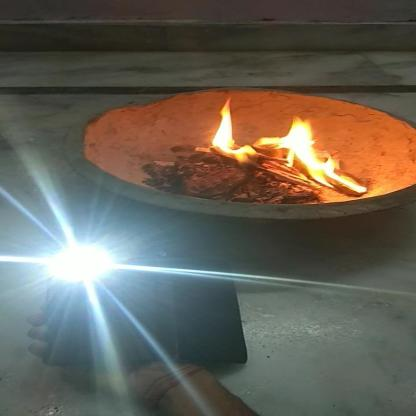fire: (203, 95, 371, 197)
